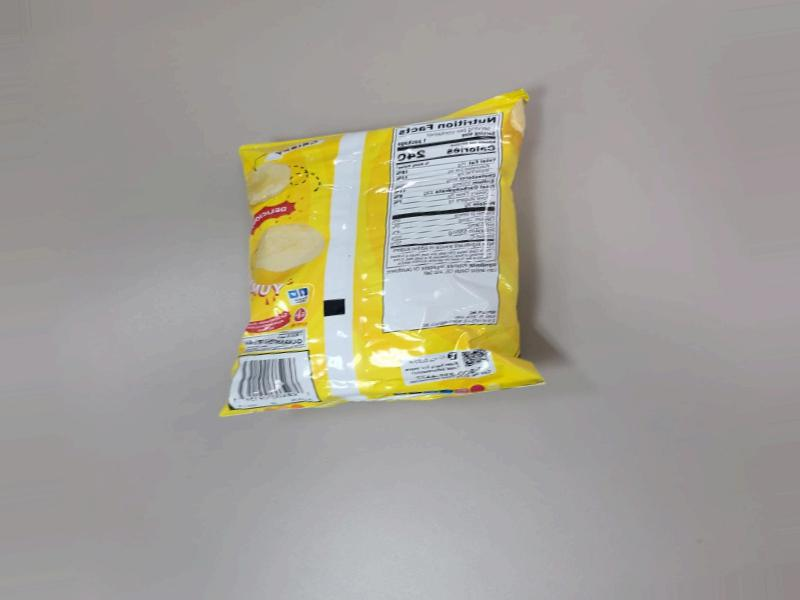lays: (219, 117, 545, 425)
